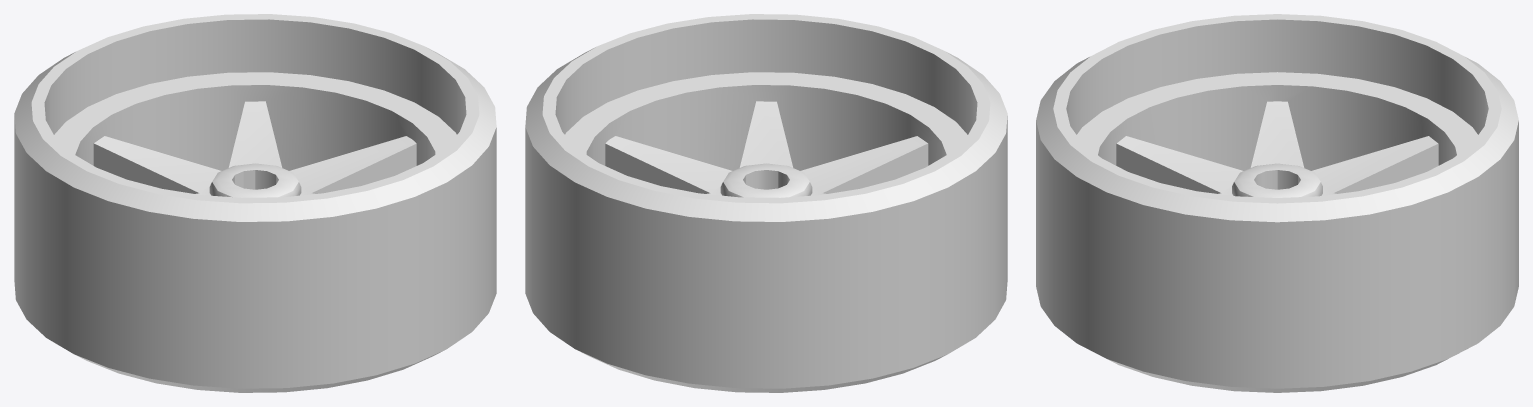
The model's file is Wheel.fbx.
The picture shows the model from 3 angles, left to right: view 1: azimuth 30°, elevation 25°; view 2: azimuth 150°, elevation 25°; view 3: azimuth 270°, elevation 25°; orthographic projection.
Parts seen in each view (by area): view 1: Wheel; view 2: Wheel; view 3: Wheel.
Part boxes in pixels (x1,y1,x2,y2): Wheel: [14, 14, 496, 392]; Wheel: [525, 14, 1007, 392]; Wheel: [1036, 14, 1518, 392].
Bounding box in the file's own units: 71.39 × 30.91 × 71.39.
